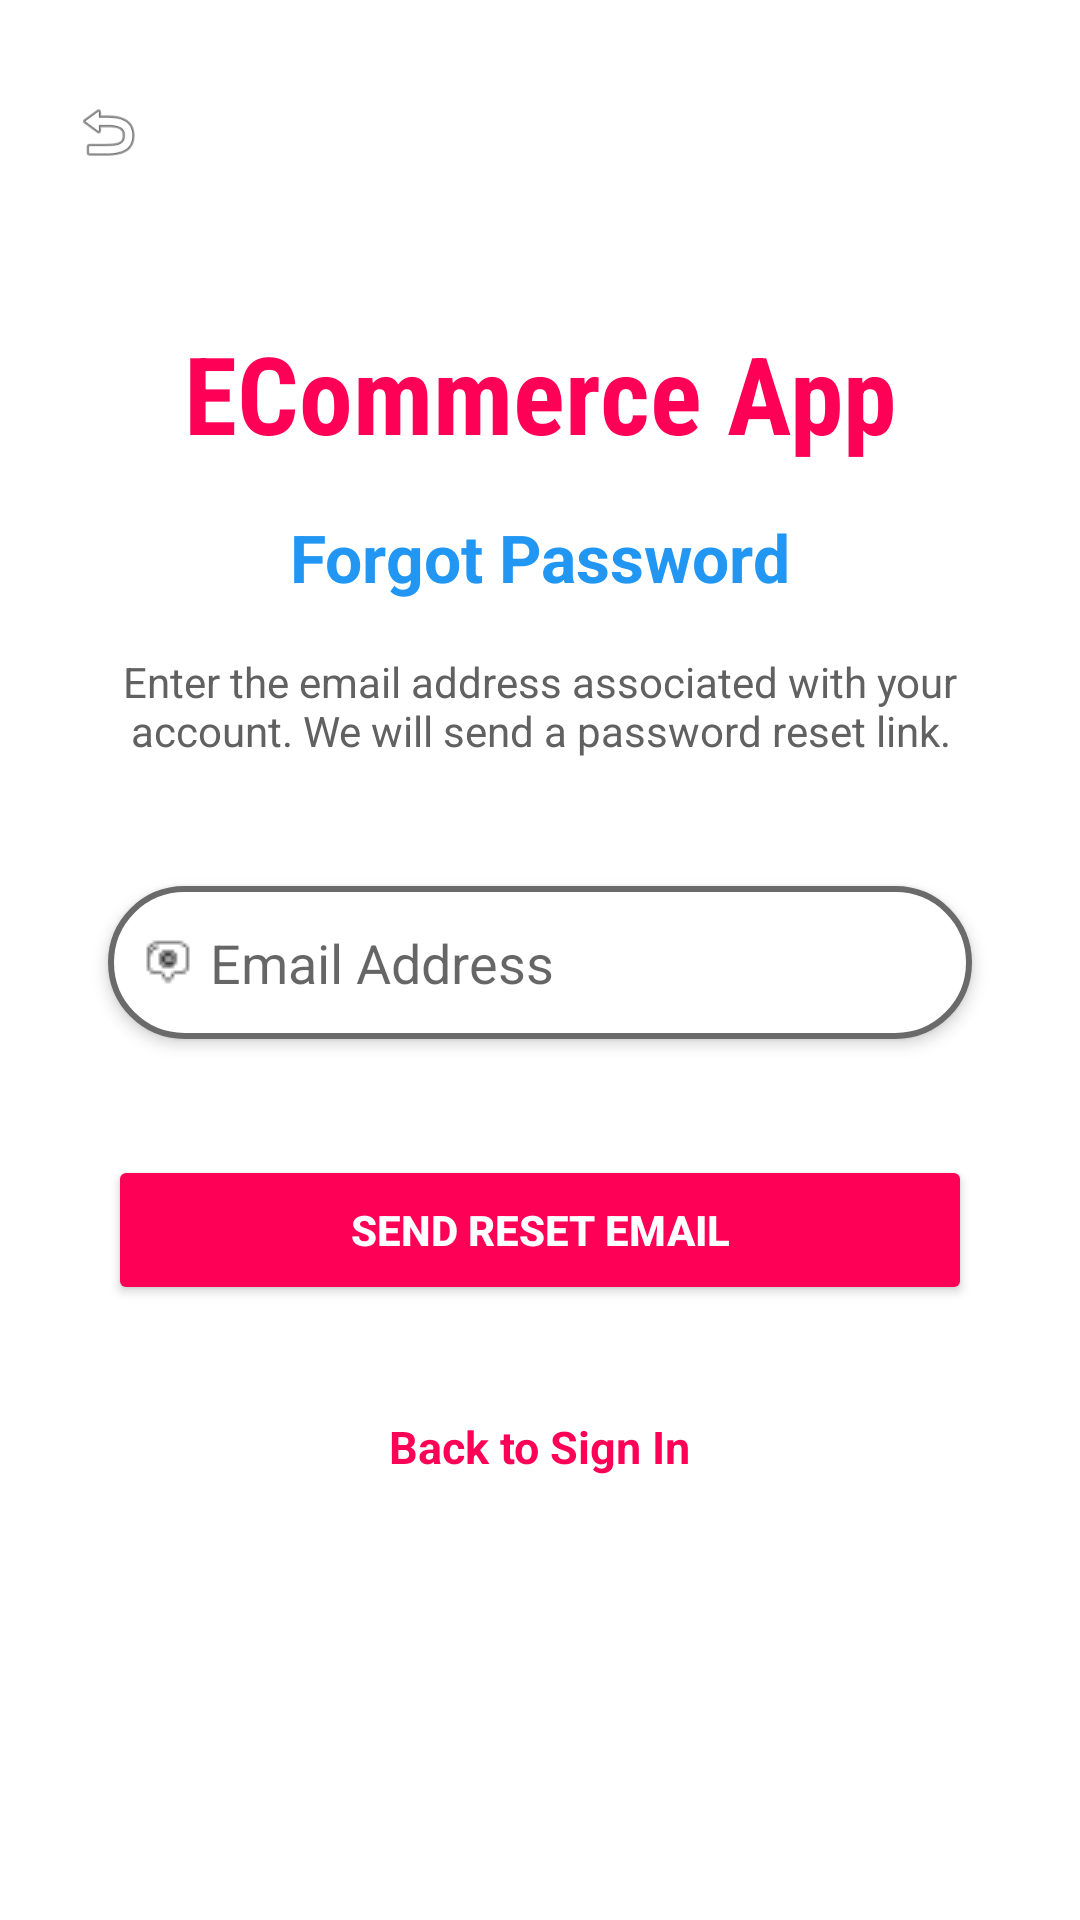

Named icons in this screenshot (1080x1920) and their bounding boxes, (x1, y1, x2, y2):
revert: (83, 109, 135, 156)
